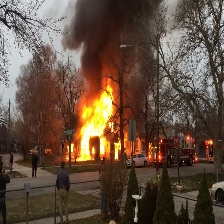fire: (74, 83, 137, 166)
